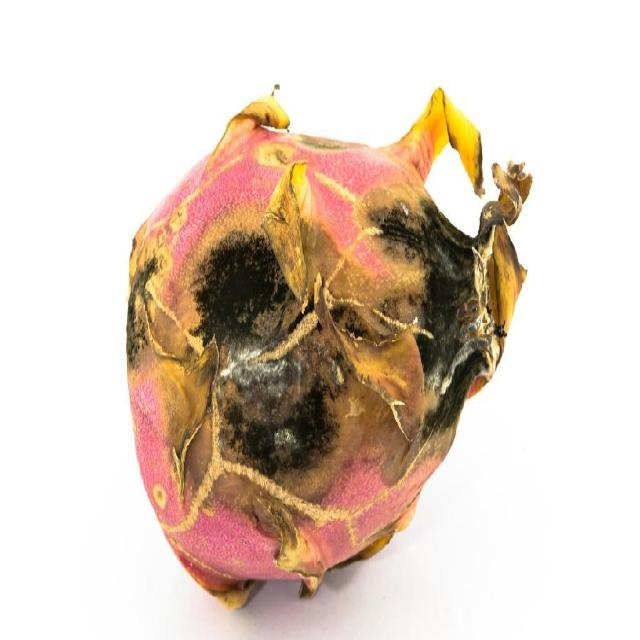organic: (124, 86, 534, 612)
